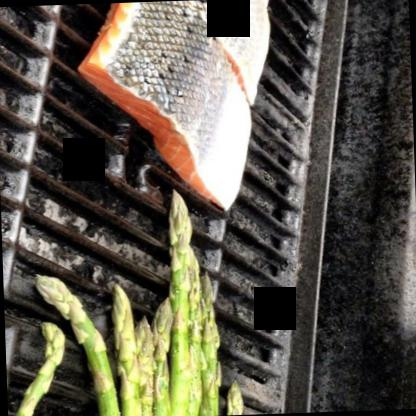salmon: (68, 0, 267, 226)
